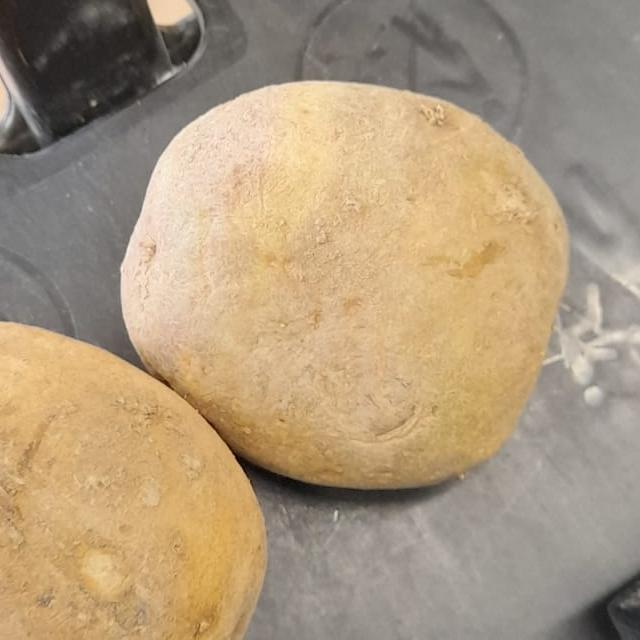potato: (100, 33, 587, 513), (0, 293, 303, 640)
